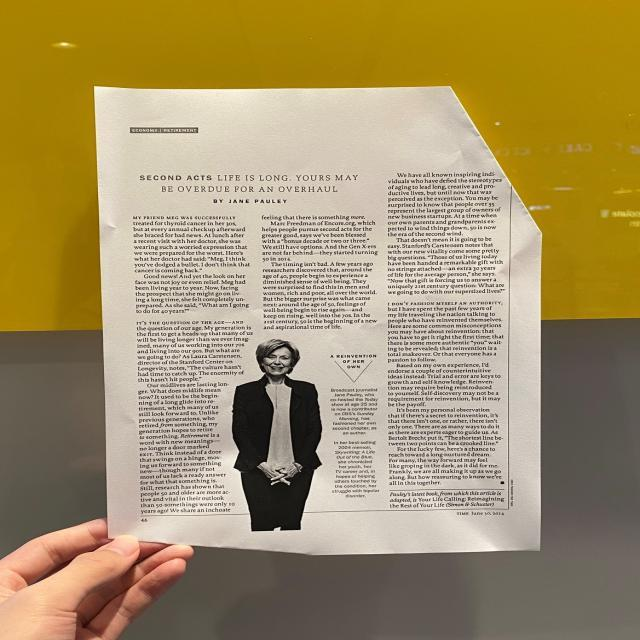document: (95, 88, 541, 554)
